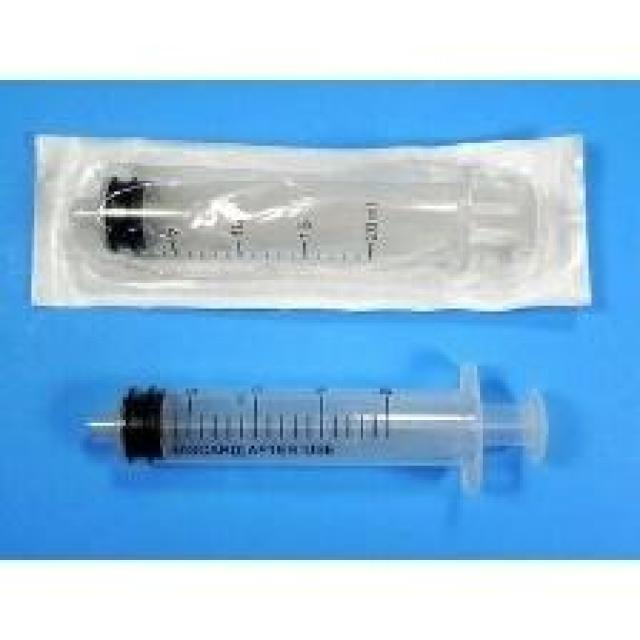syringe: (87, 365, 588, 536), (80, 164, 541, 322)
